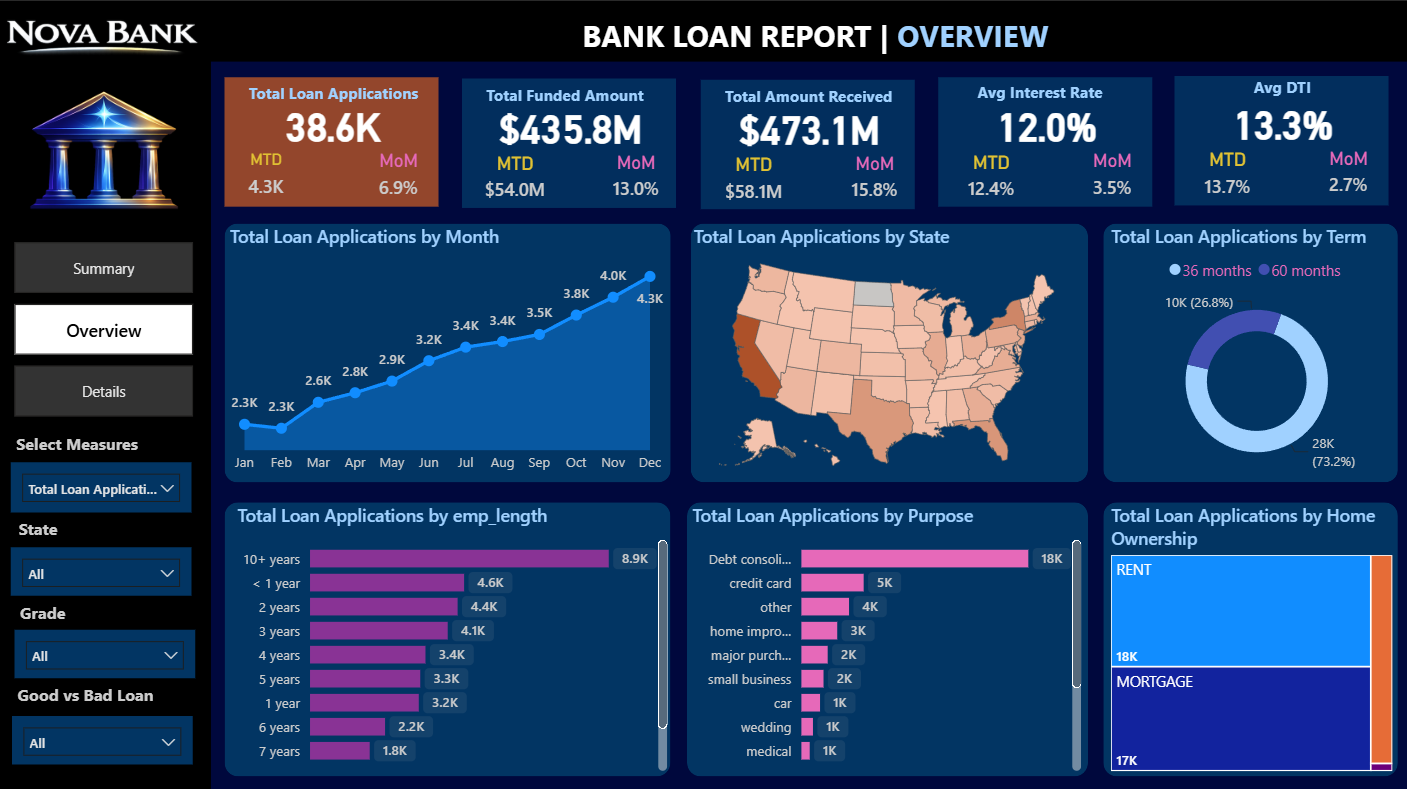

What the dashboard file says about the page in this screenshot:
{"tool":"powerbi","page":{"name":"Overview","canvas":[1280,720],"ordinal":1},"visuals":[{"type":"shape","box":[2.3,54.7,191.9,665.1],"z":0},{"type":"shape","box":[0,0,1280.3,55],"z":1000},{"type":"textbox","box":[526.7,8.1,443,46.5],"z":2000},{"type":"shape","box":[1068.6,68.1,194.2,117.4],"z":3000,"group":"g5"},{"type":"group","id":"g1","title":"Group 1","box":[206.5,69.1,194.2,119.3],"z":3000},{"type":"shape","box":[206.5,69.6,194.2,117.4],"z":3000,"group":"g1"},{"type":"shape","box":[854,70.2,194.2,117.4],"z":3000,"group":"g4"},{"type":"shape","box":[422.3,70.3,194.2,117.4],"z":3000,"group":"g2"},{"type":"shape","box":[638.1,71.4,194.2,117.4],"z":3000,"group":"g3"},{"type":"card","fields":{"Values":["bank_loan_data.Avg DTI"]},"box":[1074.9,87.9,183.7,45.3],"z":4000,"group":"g5"},{"type":"card","fields":{"Values":["bank_loan_data.Total Loan Applications"]},"box":[212.8,89.3,183.7,45.3],"z":4000,"group":"g1"},{"type":"card","fields":{"Values":["bank_loan_data.Total Funded Amount"]},"box":[428.6,90,183.7,45.3],"z":4000,"group":"g2"},{"type":"card","fields":{"Values":["bank_loan_data.Avg Interest Rate"]},"box":[860.3,90,183.7,45.3],"z":4000,"group":"g4"},{"type":"card","fields":{"Values":["bank_loan_data.Total Amount Received"]},"box":[644.4,91.1,183.7,45.3],"z":4000,"group":"g3"},{"type":"shape","box":[207,202.3,405,235],"z":4000},{"type":"textbox","box":[1135,64,101.2,29.1],"z":5000,"group":"g5"},{"type":"textbox","box":[884.2,68.6,172.1,31.4],"z":5000,"group":"g4"},{"type":"textbox","box":[223.2,69.1,172.1,31.4],"z":5000,"group":"g1"},{"type":"group","id":"g2","title":"Group 1","box":[422.3,69.8,194.2,120],"z":5000},{"type":"textbox","box":[439,69.8,172.1,31.4],"z":5000,"group":"g2"},{"type":"textbox","box":[654.8,70.9,172.1,31.4],"z":5000,"group":"g3"},{"type":"group","id":"g3","title":"Group 1","box":[638.1,70.9,194.2,119.8],"z":6000},{"type":"card","title":"MTD","fields":{"Values":["bank_loan_data.MTD Avg DTI"]},"box":[1074.9,134.2,82.6,53.5],"z":6000,"group":"g5"},{"type":"card","title":"MTD","fields":{"Values":["bank_loan_data.MTD Loan Applications"]},"box":[212.8,134.9,61.6,53.5],"z":6000,"group":"g1"},{"type":"card","title":"MTD","fields":{"Values":["bank_loan_data.MTD Funded Amount"]},"box":[428.6,136.3,82.6,53.5],"z":6000,"group":"g2"},{"type":"card","title":"MTD","fields":{"Values":["bank_loan_data.MTD Avg Interest Rate"]},"box":[860.3,136.3,82.6,53.5],"z":6000,"group":"g4"},{"type":"card","title":"MTD","fields":{"Values":["bank_loan_data.MTD Amount Received"]},"box":[644.4,137.4,82.6,53.5],"z":6000,"group":"g3"},{"type":"group","id":"g4","title":"Group 2","box":[854,68.6,202.3,121.2],"z":7000},{"type":"card","title":"MoM","fields":{"Values":["bank_loan_data.MoM Avg DTI"]},"box":[1195.8,133.5,61.6,53.5],"z":7000,"group":"g5"},{"type":"card","title":"MoM","fields":{"Values":["bank_loan_data.MoM Loan Application"]},"box":[333.7,134.9,61.6,53.5],"z":7000,"group":"g1"},{"type":"card","title":"MoM","fields":{"Values":["bank_loan_data.MoM Total Funded Amount"]},"box":[549.5,135.6,61.6,53.5],"z":7000,"group":"g2"},{"type":"card","title":"MoM","fields":{"Values":["bank_loan_data.MoM Avg Interest Rate"]},"box":[981.2,135.6,61.6,53.5],"z":7000,"group":"g4"},{"type":"card","title":"MoM","fields":{"Values":["bank_loan_data.MoM Total Amount Received"]},"box":[765.3,136.7,61.6,53.5],"z":7000,"group":"g3"},{"type":"group","id":"g5","title":"Group 2","box":[1068.6,64,194.2,123.3],"z":8000},{"type":"slicer","fields":{"Values":["bank_loan_data.address_state"]},"box":[12.8,495.4,164,44.2],"z":9000},{"type":"textbox","box":[15.1,464,165.1,31.4],"z":10000},{"type":"slicer","fields":{"Values":["bank_loan_data.grade"]},"box":[16.3,570.9,164,44.2],"z":11000},{"type":"textbox","box":[16.3,539.5,165.1,31.4],"z":12000},{"type":"slicer","fields":{"Values":["bank_loan_data.Good vs Bad Loan"]},"box":[14,648.8,164,44.2],"z":13000},{"type":"textbox","box":[14,615.1,143,33.7],"z":14000},{"type":"areaChart","fields":{"Y":["bank_loan_data.Total Loan Applications"],"Category":["Date Table.Month"]},"box":[207,202.3,404.7,234.9],"z":15000},{"type":"slicer","fields":{"Values":["Select Measure.Select Measure"]},"box":[12.8,418.6,164,45.3],"z":16000},{"type":"textbox","box":[12.8,387.2,165.1,31.4],"z":17000},{"type":"shape","box":[629.1,202.3,360.5,234.9],"z":18000},{"type":"shapeMap","fields":{"Value":["bank_loan_data.Total Loan Applications"],"Category":["bank_loan_data.address_state"]},"box":[627.3,202.3,360.5,234.9],"z":19000},{"type":"shape","box":[1003.5,202.3,267.4,234.9],"z":20000},{"type":"donutChart","fields":{"Y":["bank_loan_data.Total Loan Applications"],"Category":["bank_loan_data.term"]},"box":[1005.8,202.3,274.4,234.9],"z":21000},{"type":"shape","box":[207,454.7,404.7,248.8],"z":22000},{"type":"barChart","fields":{"Y":["bank_loan_data.Total Loan Applications"],"Category":["bank_loan_data.emp_length"]},"box":[212.8,454.7,400,248.8],"z":23000},{"type":"shape","box":[625.6,454.7,364,248.8],"z":24000},{"type":"barChart","fields":{"Y":["bank_loan_data.Total Loan Applications"],"Category":["bank_loan_data.purpose"]},"box":[625.6,454.7,362.8,248.8],"z":25000},{"type":"shape","box":[1003.5,454.7,267.4,248.8],"z":26000},{"type":"treemap","fields":{"Values":["bank_loan_data.Total Loan Applications"],"Group":["bank_loan_data.home_ownership"]},"box":[1005.8,454.7,265.1,248.8],"z":27000},{"type":"pageNavigator","box":[16.3,218.6,162.8,158.1],"z":28000},{"type":"image","box":[0,38.4,194.2,197.7],"z":28001},{"type":"image","box":[5.8,0,186,64],"z":28002}]}

Visuals, with their boxes in screenshot pixels (x1, y1, x2, y2), scaled from the page's 1280x720 canvas onto the 1407x789 screenshot:
shape: x1=3 y1=60 x2=213 y2=788
shape: x1=0 y1=0 x2=1406 y2=60
textbox: x1=579 y1=9 x2=1066 y2=60
shape: x1=1175 y1=75 x2=1388 y2=203
"Group 1" group: x1=227 y1=76 x2=440 y2=206
shape: x1=227 y1=76 x2=440 y2=205
shape: x1=939 y1=77 x2=1152 y2=206
shape: x1=464 y1=77 x2=678 y2=206
shape: x1=701 y1=78 x2=915 y2=207
card - bank_loan_data.Avg DTI: x1=1182 y1=96 x2=1383 y2=146
card - bank_loan_data.Total Loan Applications: x1=234 y1=98 x2=436 y2=147
card - bank_loan_data.Total Funded Amount: x1=471 y1=99 x2=673 y2=148
card - bank_loan_data.Avg Interest Rate: x1=946 y1=99 x2=1148 y2=148
card - bank_loan_data.Total Amount Received: x1=708 y1=100 x2=910 y2=149
shape: x1=228 y1=222 x2=673 y2=479
textbox: x1=1248 y1=70 x2=1359 y2=102
textbox: x1=972 y1=75 x2=1161 y2=110
textbox: x1=245 y1=76 x2=435 y2=110
"Group 1" group: x1=464 y1=76 x2=678 y2=208
textbox: x1=483 y1=76 x2=672 y2=111
textbox: x1=720 y1=78 x2=909 y2=112
"Group 1" group: x1=701 y1=78 x2=915 y2=209
"MTD" card: x1=1182 y1=147 x2=1272 y2=206
"MTD" card: x1=234 y1=148 x2=302 y2=206
"MTD" card: x1=471 y1=149 x2=562 y2=208
"MTD" card: x1=946 y1=149 x2=1036 y2=208
"MTD" card: x1=708 y1=151 x2=799 y2=209
"Group 2" group: x1=939 y1=75 x2=1161 y2=208
"MoM" card: x1=1314 y1=146 x2=1382 y2=205
"MoM" card: x1=367 y1=148 x2=435 y2=206
"MoM" card: x1=604 y1=149 x2=672 y2=207
"MoM" card: x1=1079 y1=149 x2=1146 y2=207
"MoM" card: x1=841 y1=150 x2=909 y2=208
"Group 2" group: x1=1175 y1=70 x2=1388 y2=205
slicer - bank_loan_data.address_state: x1=14 y1=543 x2=194 y2=591
textbox: x1=17 y1=508 x2=198 y2=543
slicer - bank_loan_data.grade: x1=18 y1=626 x2=198 y2=674
textbox: x1=18 y1=591 x2=199 y2=626
slicer - bank_loan_data.Good vs Bad Loan: x1=15 y1=711 x2=196 y2=759
textbox: x1=15 y1=674 x2=173 y2=711
areaChart - bank_loan_data.Total Loan Applications x Date Table.Month: x1=228 y1=222 x2=672 y2=479
slicer - Select Measure.Select Measure: x1=14 y1=459 x2=194 y2=508
textbox: x1=14 y1=424 x2=196 y2=459
shape: x1=692 y1=222 x2=1088 y2=479
shapeMap - bank_loan_data.Total Loan Applications x bank_loan_data.address_state: x1=690 y1=222 x2=1086 y2=479
shape: x1=1103 y1=222 x2=1397 y2=479
donutChart - bank_loan_data.Total Loan Applications x bank_loan_data.term: x1=1106 y1=222 x2=1406 y2=479
shape: x1=228 y1=498 x2=672 y2=771
barChart - bank_loan_data.Total Loan Applications x bank_loan_data.emp_length: x1=234 y1=498 x2=674 y2=771
shape: x1=688 y1=498 x2=1088 y2=771
barChart - bank_loan_data.Total Loan Applications x bank_loan_data.purpose: x1=688 y1=498 x2=1086 y2=771
shape: x1=1103 y1=498 x2=1397 y2=771
treemap - bank_loan_data.Total Loan Applications x bank_loan_data.home_ownership: x1=1106 y1=498 x2=1397 y2=771
pageNavigator: x1=18 y1=240 x2=197 y2=413
image: x1=0 y1=42 x2=213 y2=259
image: x1=6 y1=0 x2=211 y2=70
